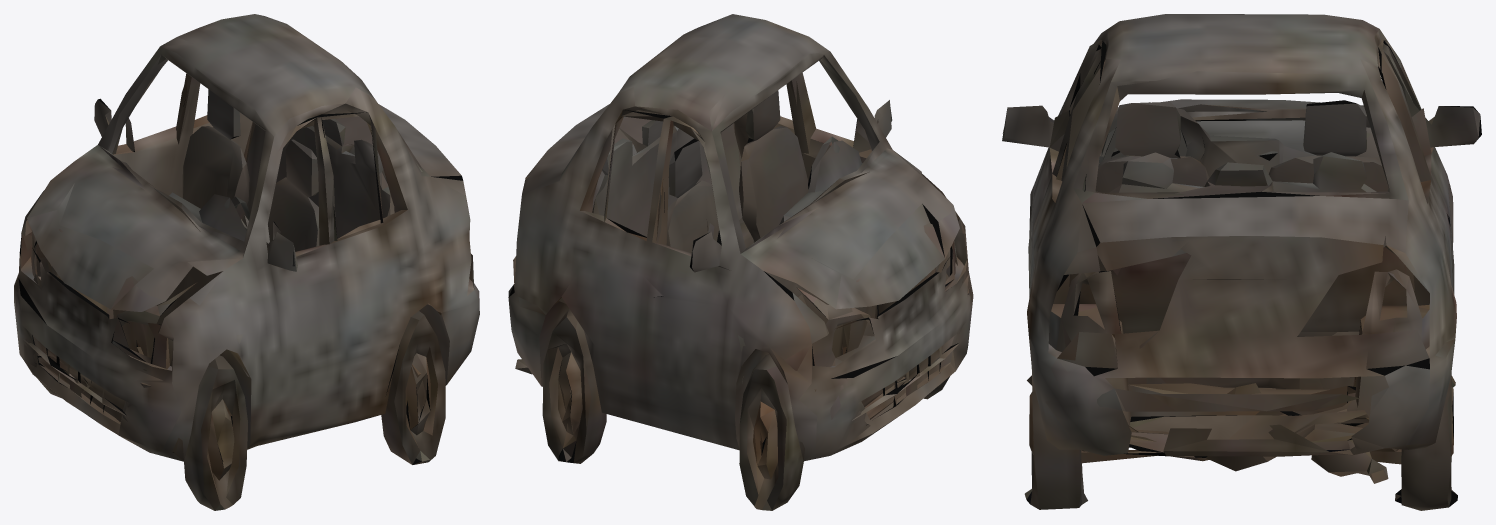
The model's file is wreck_car.glb.
3 views of the same model, side by side, from view 1: azimuth 30°, elevation 25°; view 2: azimuth 150°, elevation 25°; view 3: azimuth 270°, elevation 25° (orthographic). The views are drawn at different scales.
Parts seen in each view (by area): view 1: wreck_car; view 2: wreck_car; view 3: wreck_car.
Part boxes in pixels (x1,y1,x2,y2): wreck_car: [14, 14, 479, 510]; wreck_car: [508, 14, 973, 510]; wreck_car: [1002, 14, 1481, 510].
Bounding box in the file's own units: 0.998 × 0.9994 × 0.9974.
Materials: 1 (1 with a texture image).
